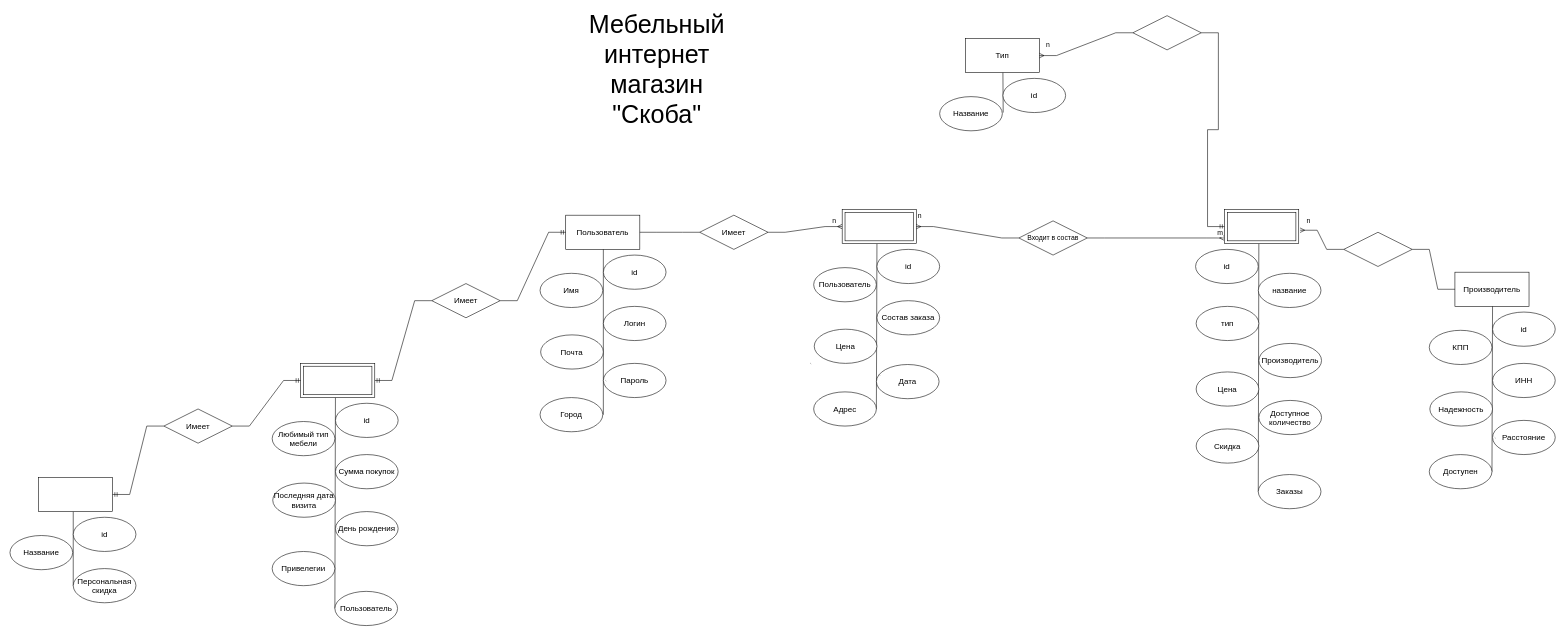
The diagram is 1565 pixels wide and 636 high, and some of its shapes have lost their labels. Each missing label, with the box of its shape:
Заказ: (842, 209, 916, 244)
Информация о пользователе: (300, 363, 375, 398)
Привилегии: (38, 477, 113, 512)
Производит: (1343, 232, 1412, 266)
Фурниура: (1224, 209, 1299, 244)
Является: (1132, 15, 1201, 50)
